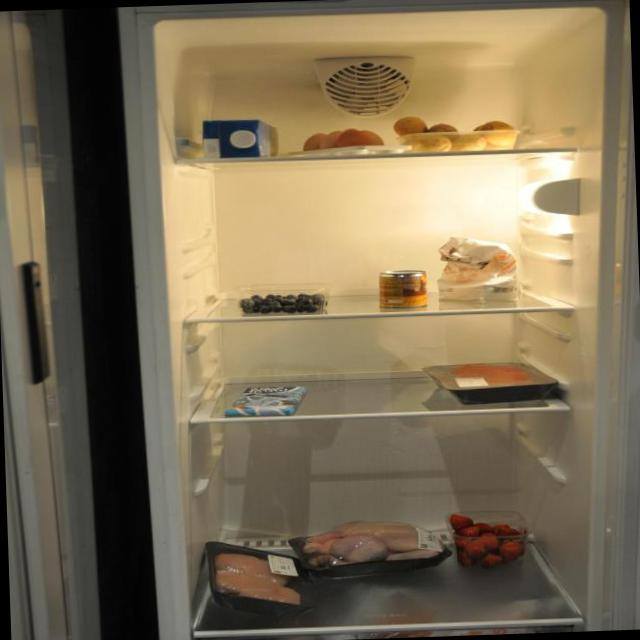Carne pollo: (298, 514, 444, 576), (210, 546, 304, 610)
Carne vacuno: (436, 358, 553, 396)
Huevos: (296, 125, 387, 155)
Leche: (196, 114, 282, 166)
Patata: (393, 111, 528, 158)
